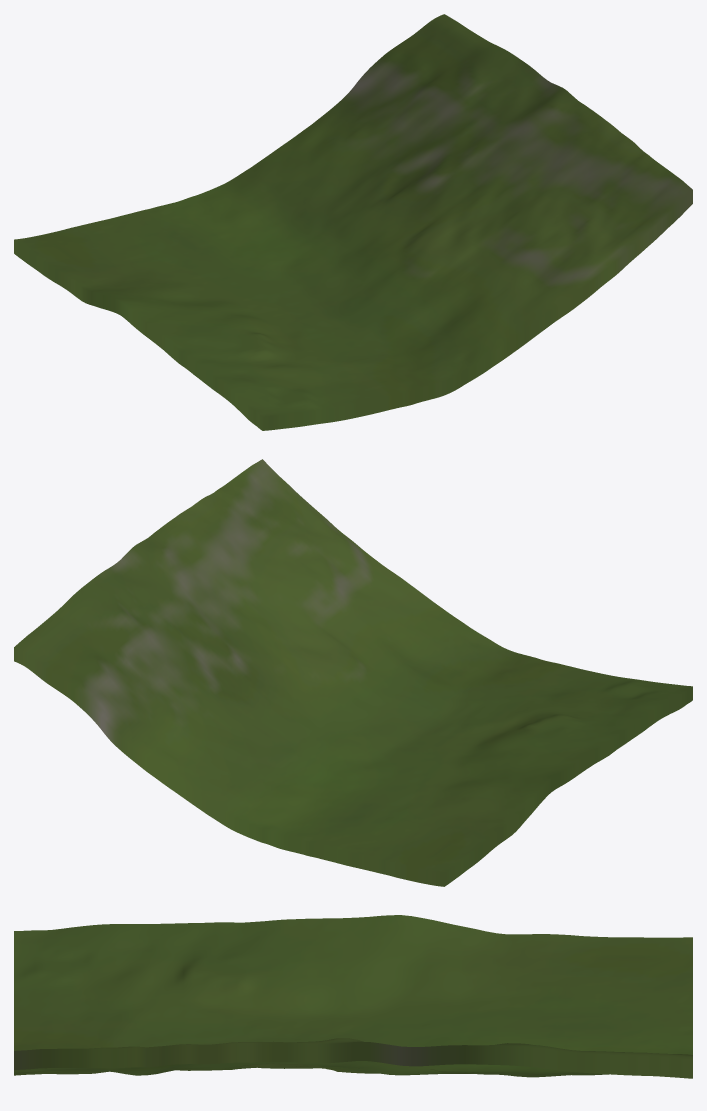
The model's file is terrain_9_-18.glb.
3 renders of one model, top to bottom at view 1: azimuth 30°, elevation 25°; view 2: azimuth 150°, elevation 25°; view 3: azimuth 270°, elevation 25°, orthographic. The views are drawn at different scales.
Visible parts, largest first — view 1: terrain_9_-18; view 2: terrain_9_-18; view 3: terrain_9_-18.
Boxes of the visible parts, x1,y1,x2,y2 form: terrain_9_-18: [14, 14, 692, 430]; terrain_9_-18: [14, 459, 692, 886]; terrain_9_-18: [14, 915, 692, 1078].
Bounding box in the file's own units: 256 × 87.24 × 256.
